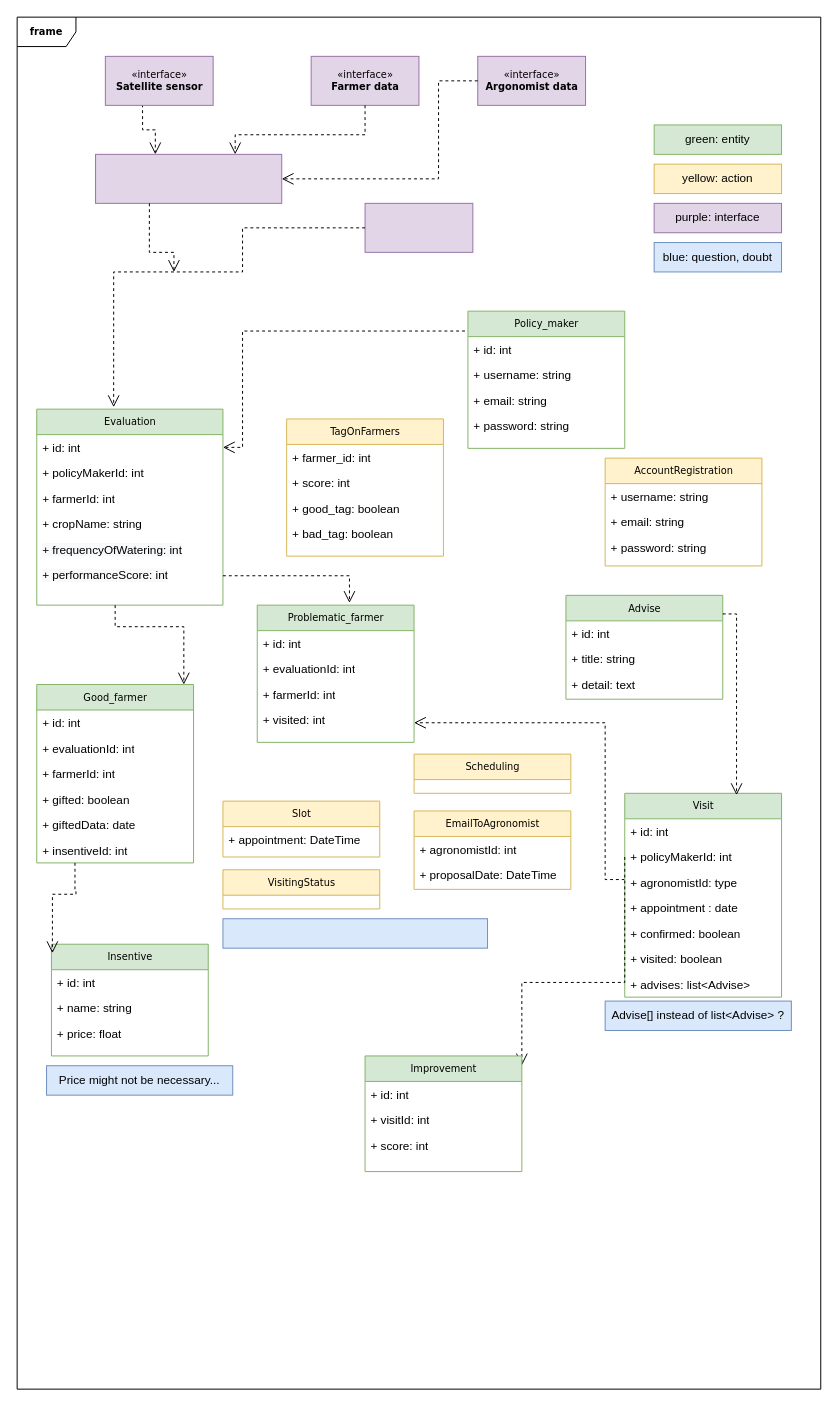
Image size: 838x1406. Some labels were removed from this diagram. The shapes that lost their labels are listed below. From the top down, each one's centre as x and y in pixels, then its label:
the point at 188,178: «interface» Cloud data storage
the point at 418,227: «interface» Open API
the point at 355,933: status: open, requested, accepted, rejeted, done
